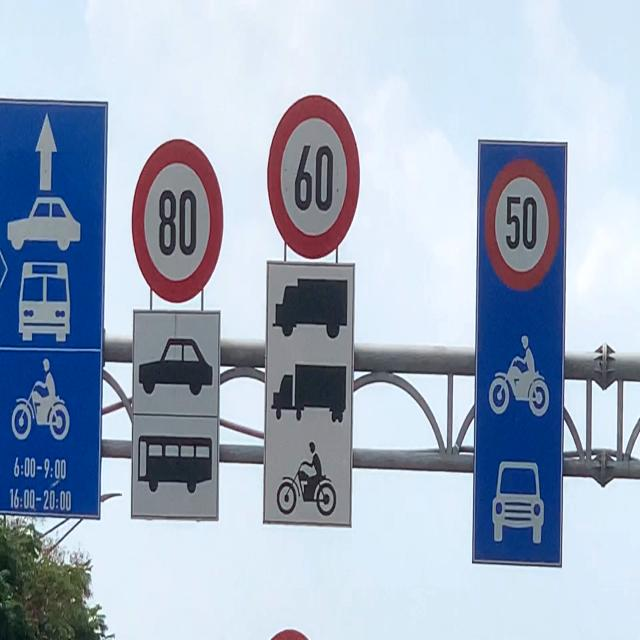P.127: (267, 93, 361, 261), (130, 138, 225, 304), (485, 158, 561, 292)
